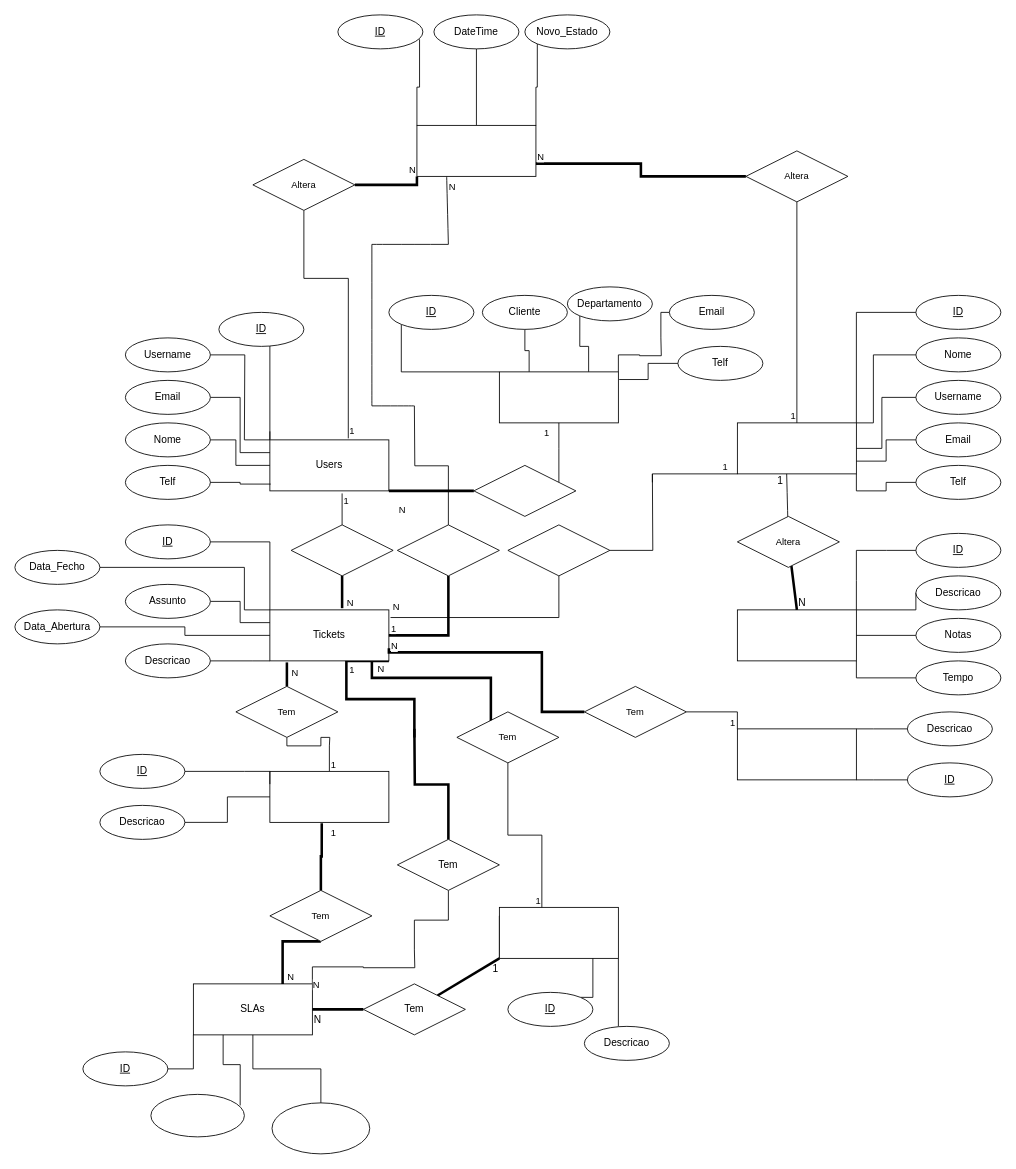
This 1016x1169 diagram has some shape labels left out. The shapes that lost their labels are listed below. From the top down, each one's centre as x and y in pixels, then its label:
At [476,150]: "Ticket_Estado_Historico".
At [558,397]: "Org_Units".
At [796,448]: "Techs".
At [524,490]: "Pertence".
At [341,550]: "Cria".
At [448,550]: "Historico".
At [558,550]: "Responsavel".
At [796,635]: "Ticket_Intervencao".
At [796,754]: "Ticket_Estados".
At [329,796]: "Ticket_Cat".
At [558,932]: "Ticket_Priority".
At [197,1115]: "Tempo_Resolucao".
At [320,1128]: "Tempo_Primeira _Resposta".
